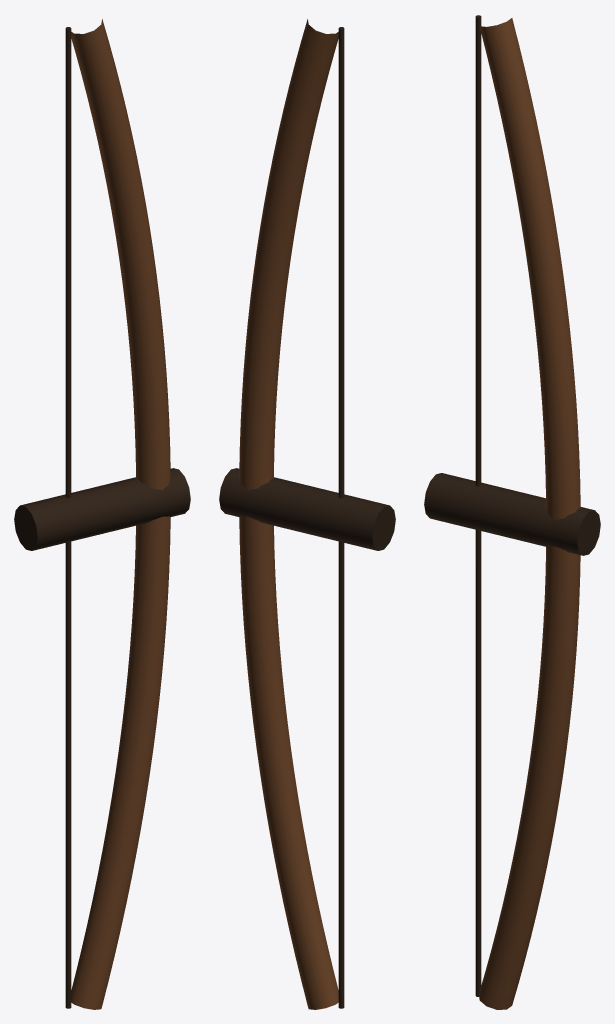
File: bow.glb
The picture shows the model from 3 angles, left to right: view 1: azimuth 30°, elevation 25°; view 2: azimuth 150°, elevation 25°; view 3: azimuth 330°, elevation 25°; orthographic projection.
Visible parts, largest first — view 1: limbs, grip, string; view 2: limbs, grip, string; view 3: limbs, grip, string.
Part boxes in pixels (x1,y1,x2,y2): limbs: [71, 19, 170, 1009]; grip: [14, 468, 190, 550]; string: [65, 27, 71, 1008]; limbs: [239, 19, 338, 1009]; grip: [219, 468, 395, 550]; string: [338, 27, 344, 1008]; limbs: [478, 18, 580, 1009]; grip: [424, 473, 600, 555]; string: [475, 15, 481, 996].
Bounding box in the file's own units: 0.18 × 1.11 × 0.048.
